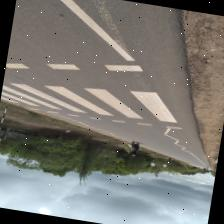crossing: (0, 38, 203, 139)
